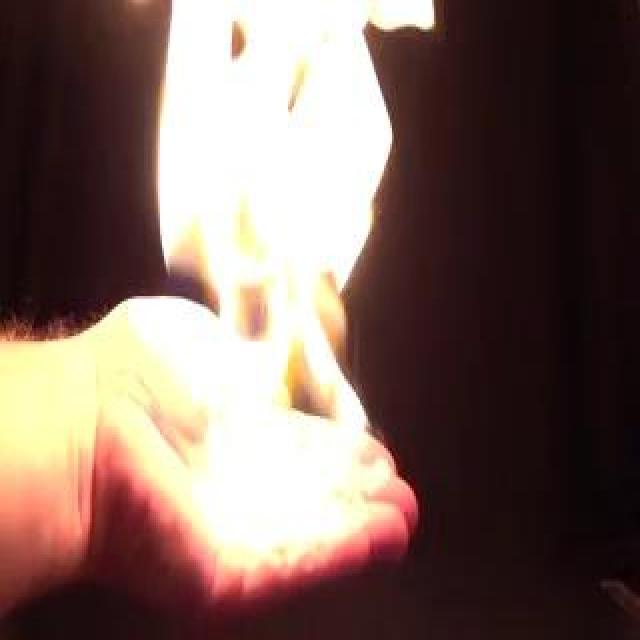Fire: (143, 3, 417, 541)
